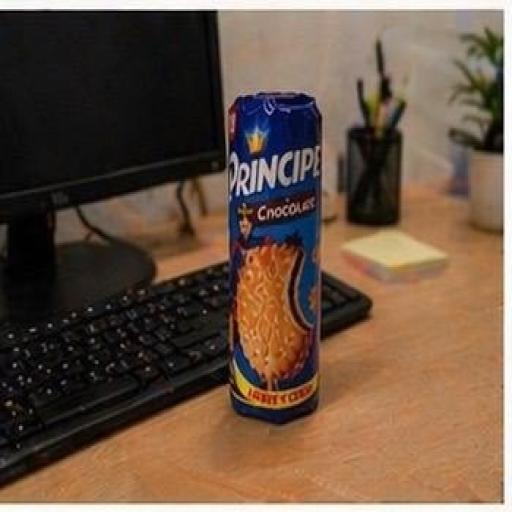prince: (164, 56, 388, 455)
